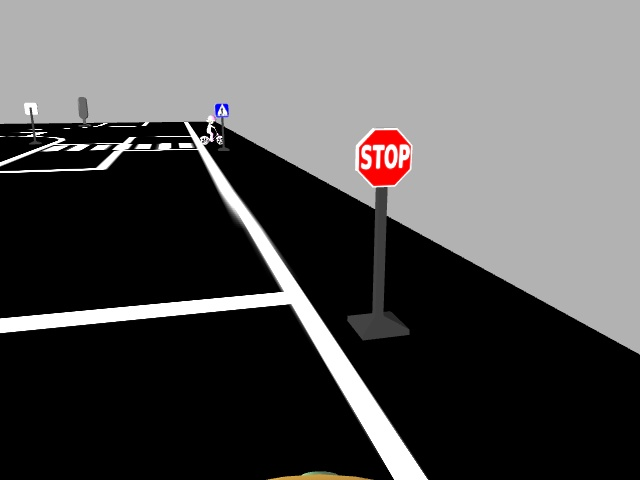Stop: (353, 126, 415, 188)
